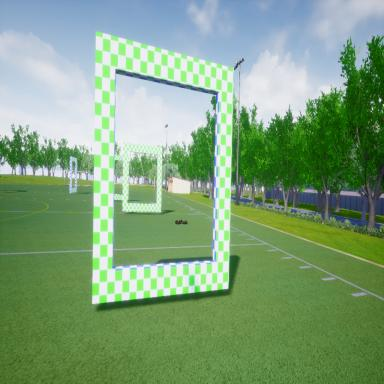gate: (90, 25, 237, 301), (121, 140, 164, 216), (67, 152, 80, 197)
